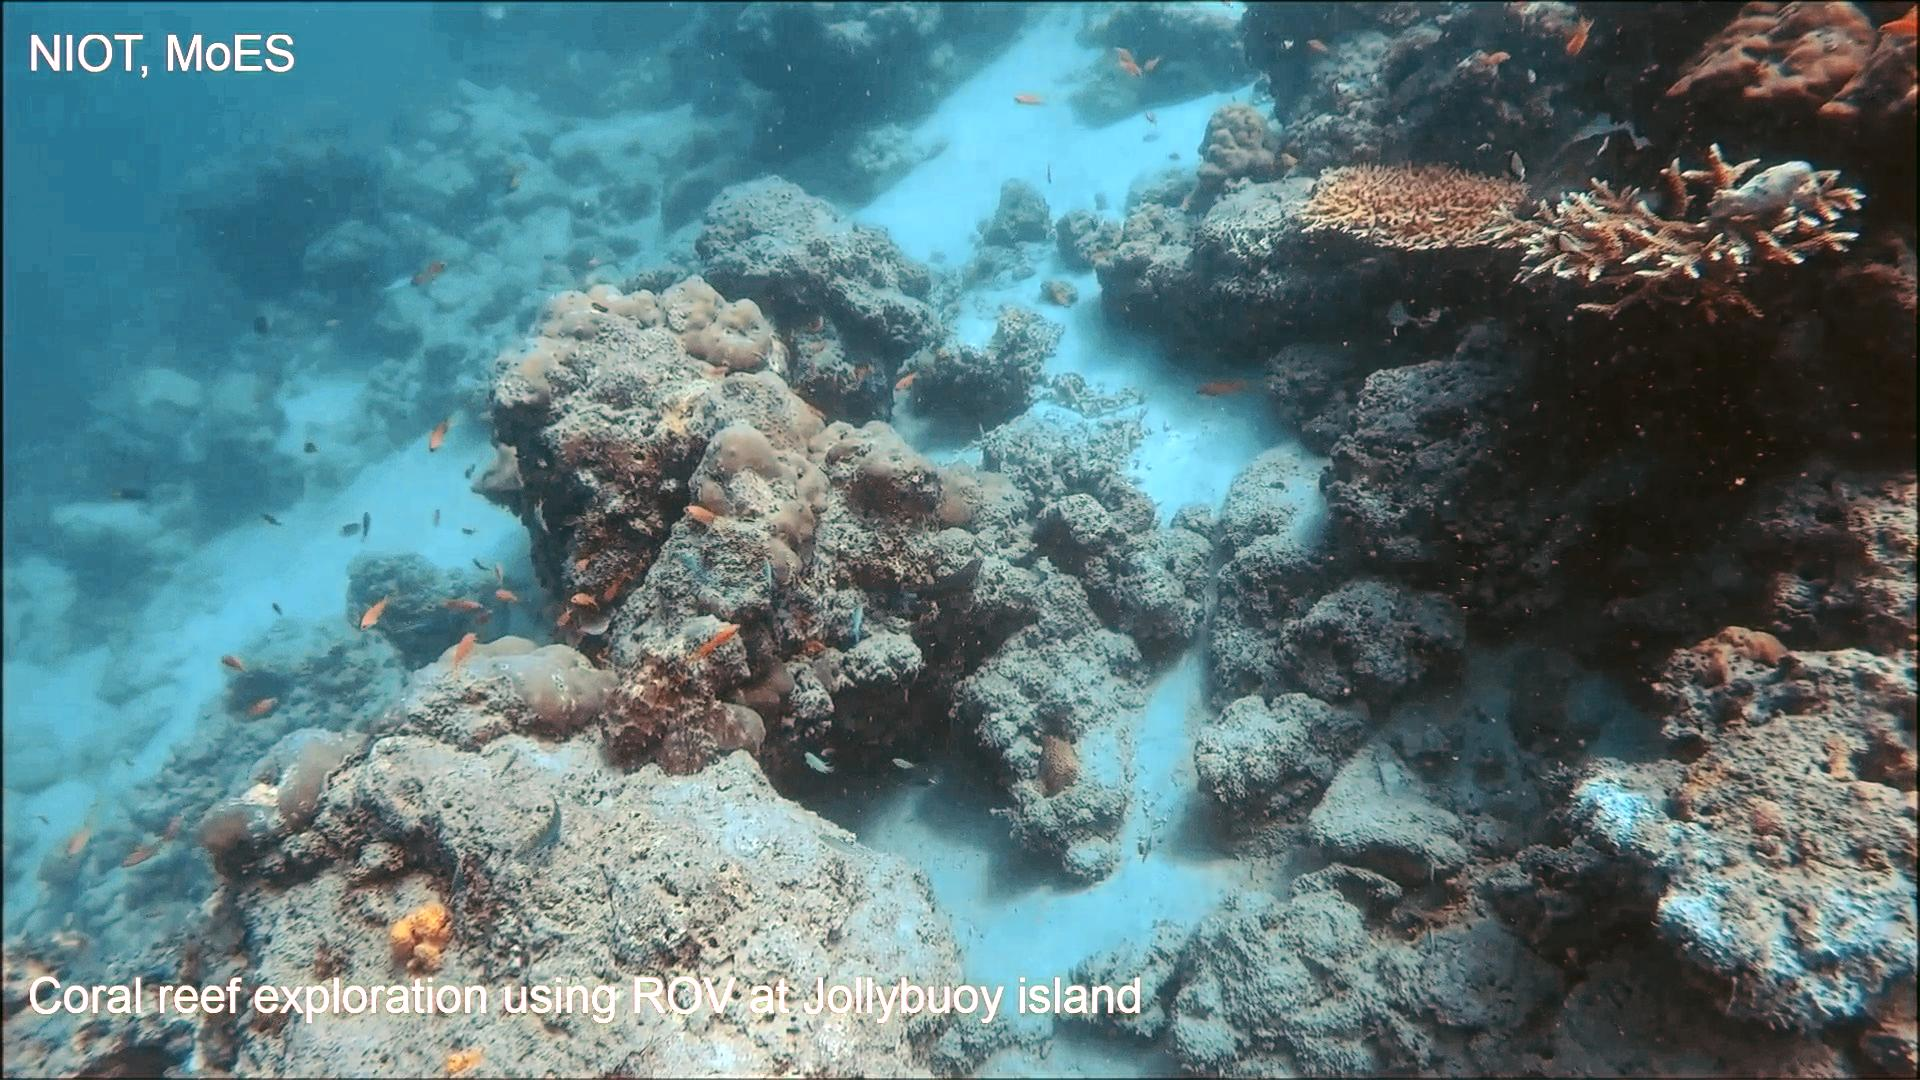Porites-Porites pukoensis: (624, 266, 860, 588)
